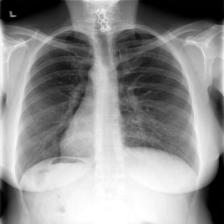normal: (12, 26, 204, 188)
